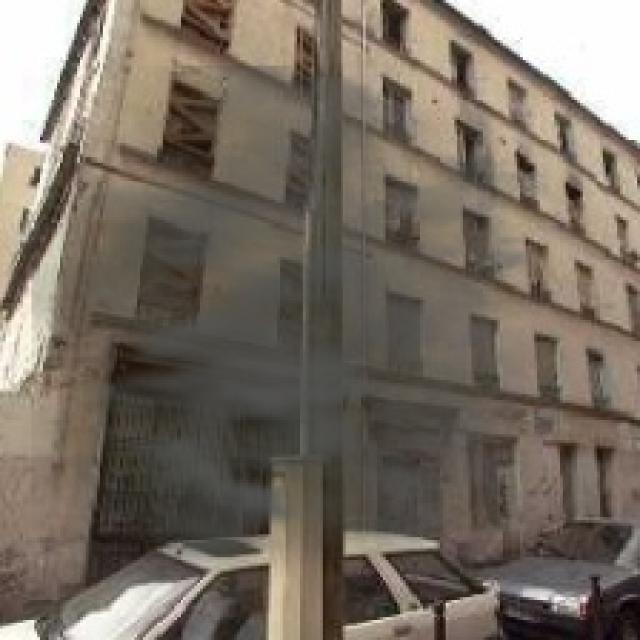Smoke: (31, 66, 598, 608)
